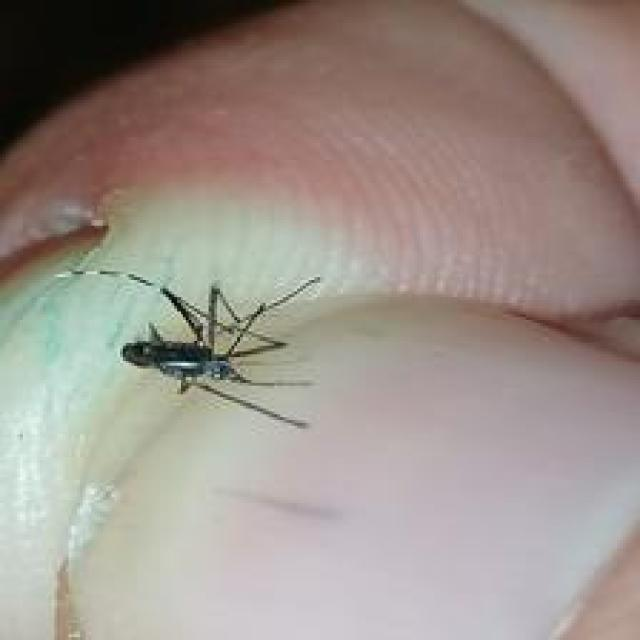Aedes albopictus: (117, 273, 323, 430)
